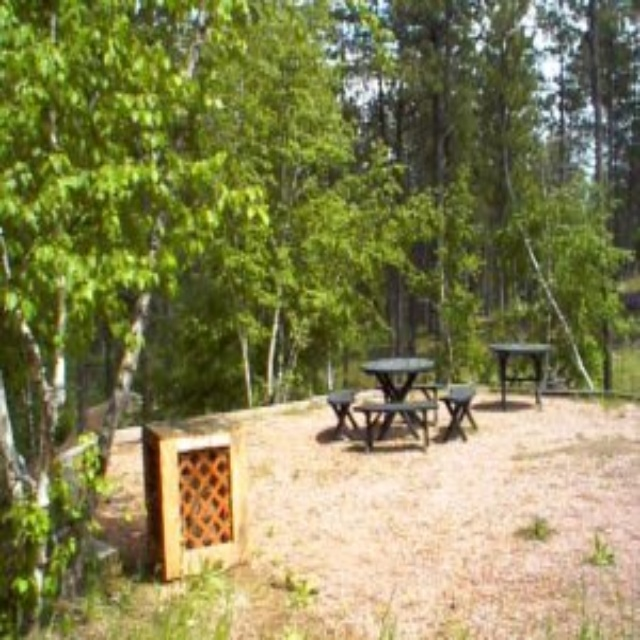obstacle: (314, 344, 474, 455), (478, 327, 567, 418)
